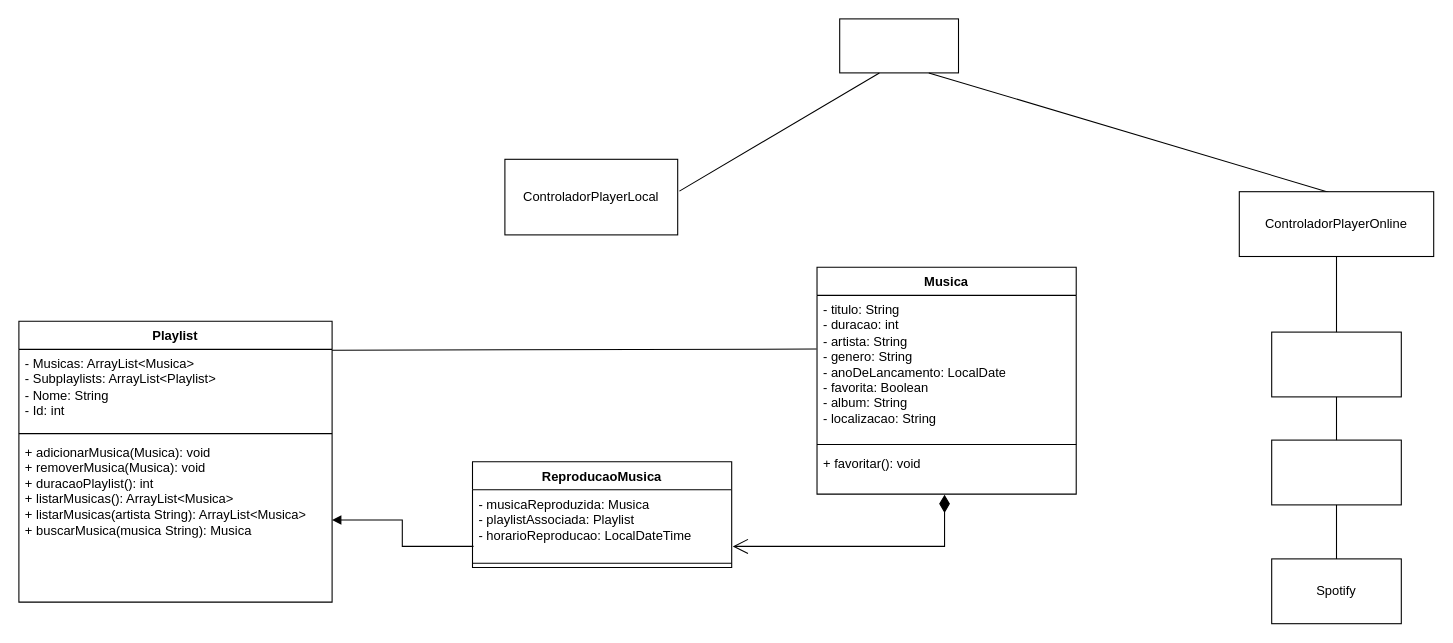
Image size: 1453x643. Some labels were removed from this diagram. Here are the shapes that lost their labels. From the top down, the centre of each, then its label:
At (x=899, y=45): "Interface Gráfica".
At (x=1336, y=364): "Biblioteca Spotify".
At (x=1336, y=472): "Spotify API".
